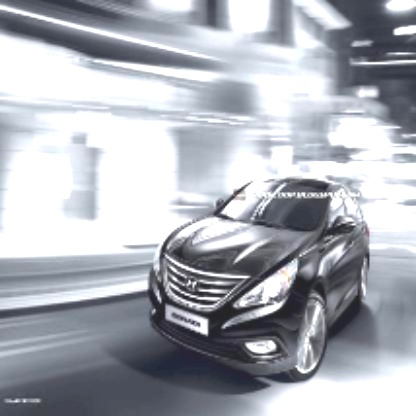Vehicle: (147, 175, 371, 385)
